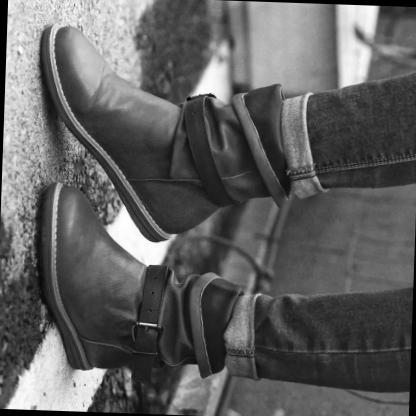ankle: (149, 329, 155, 335), (205, 160, 209, 165)
heel: (95, 363, 101, 367), (141, 186, 145, 190)
left_foot: (35, 25, 257, 216)
pinky: (83, 43, 89, 47), (60, 259, 64, 264)
right_foot: (34, 188, 216, 376)
toe: (72, 212, 78, 218), (67, 77, 71, 82)
